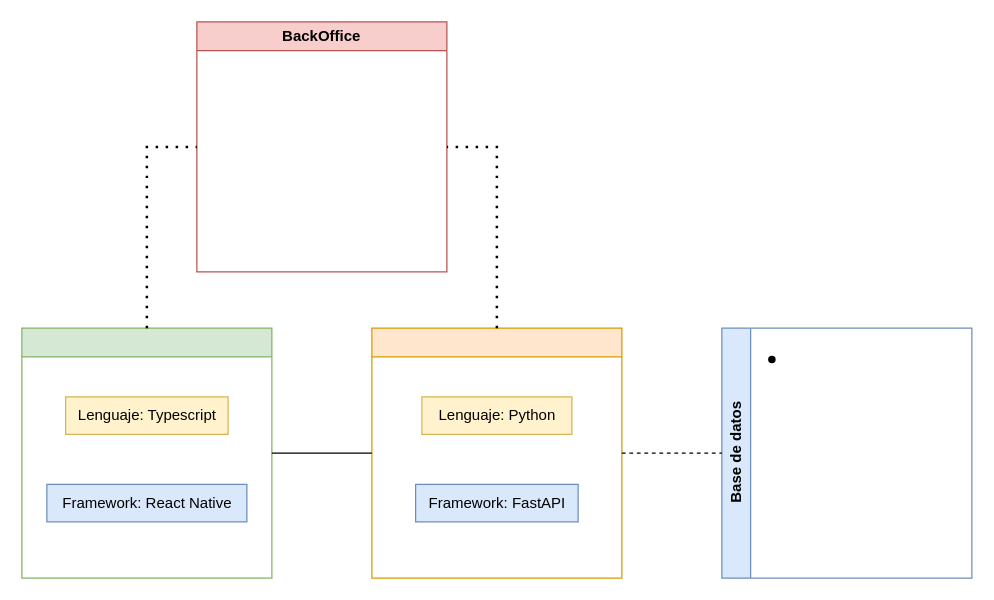
This 994x600 diagram has some shape labels left out. The box of each missing label's shape, as (x1, y1, x2, y2) in pixels:
Backend: (371, 327, 622, 578)
Frontend: (21, 327, 272, 578)
